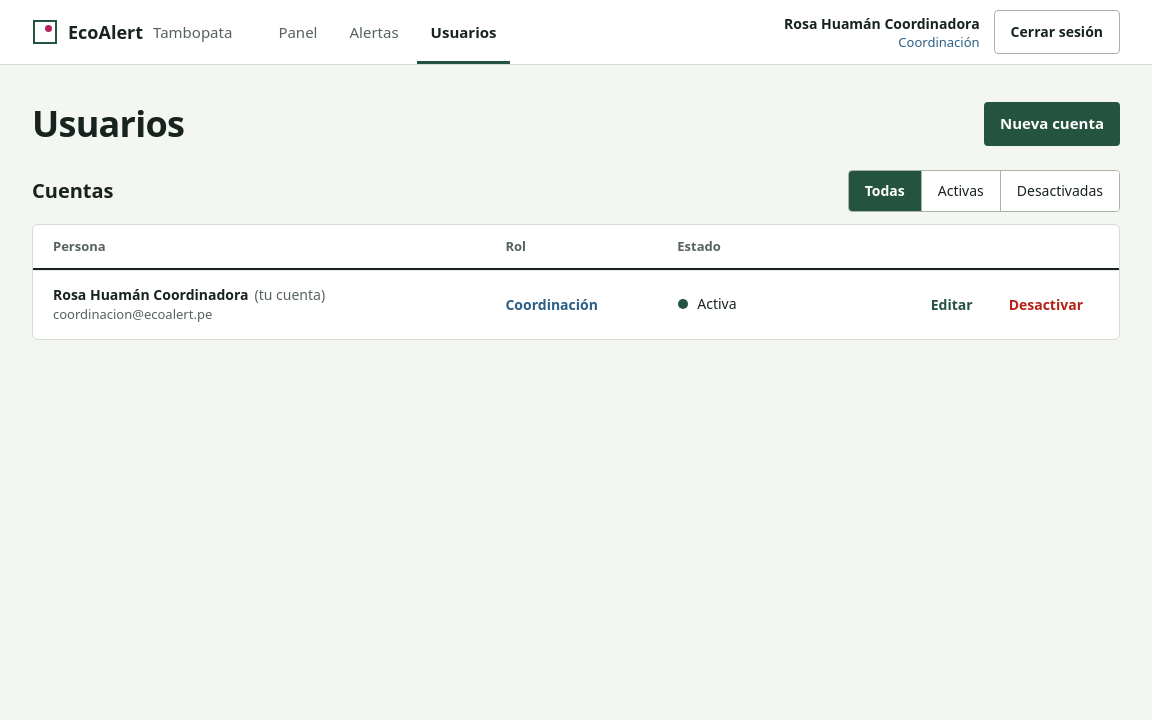
Scenario: UsuariosPage (RF-02) › crea una cuenta con Idempotency-Key y muestra la confirmación (RF-02-AC-1)
Expected: the text "coordinacion@ecoalert.pe" is shown, x1=53 y1=305 x2=212 y2=323
Click the button "Nueva cuenta".
click(1052, 124)  # box x1=984 y1=102 x2=1120 y2=146
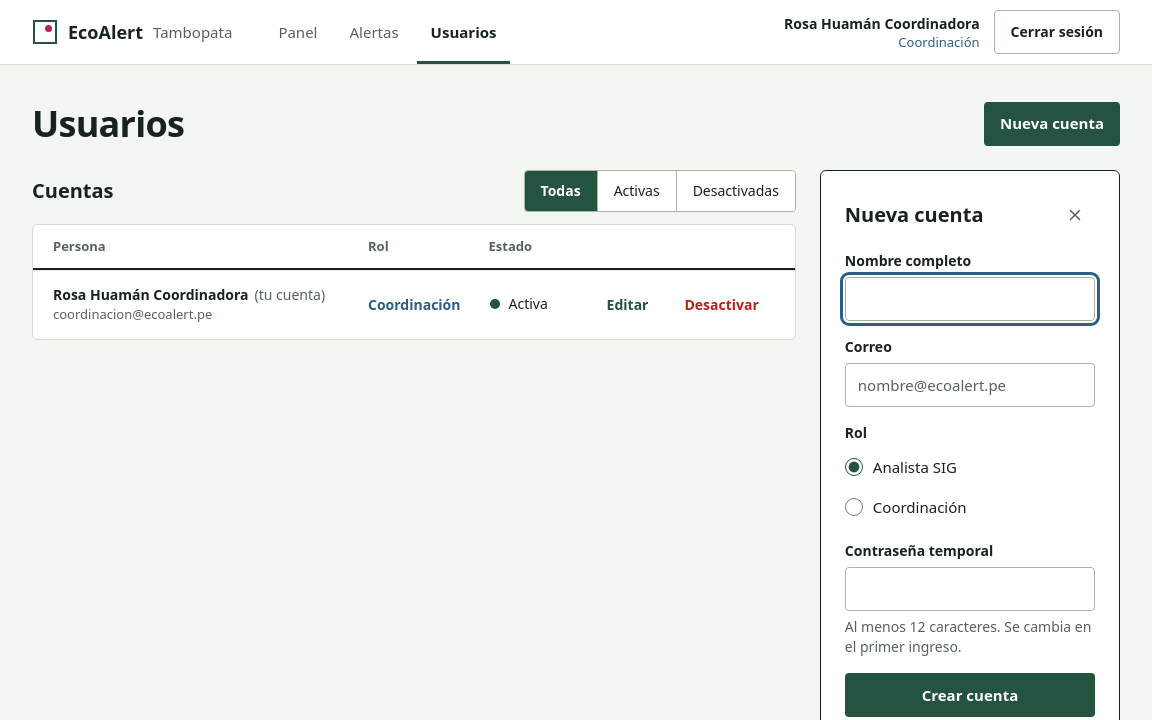
Type "Luis Condori" into the field labelled "Nombre completo".
click(970, 299); type("Luis Condori")  # box x1=845 y1=277 x2=1095 y2=321
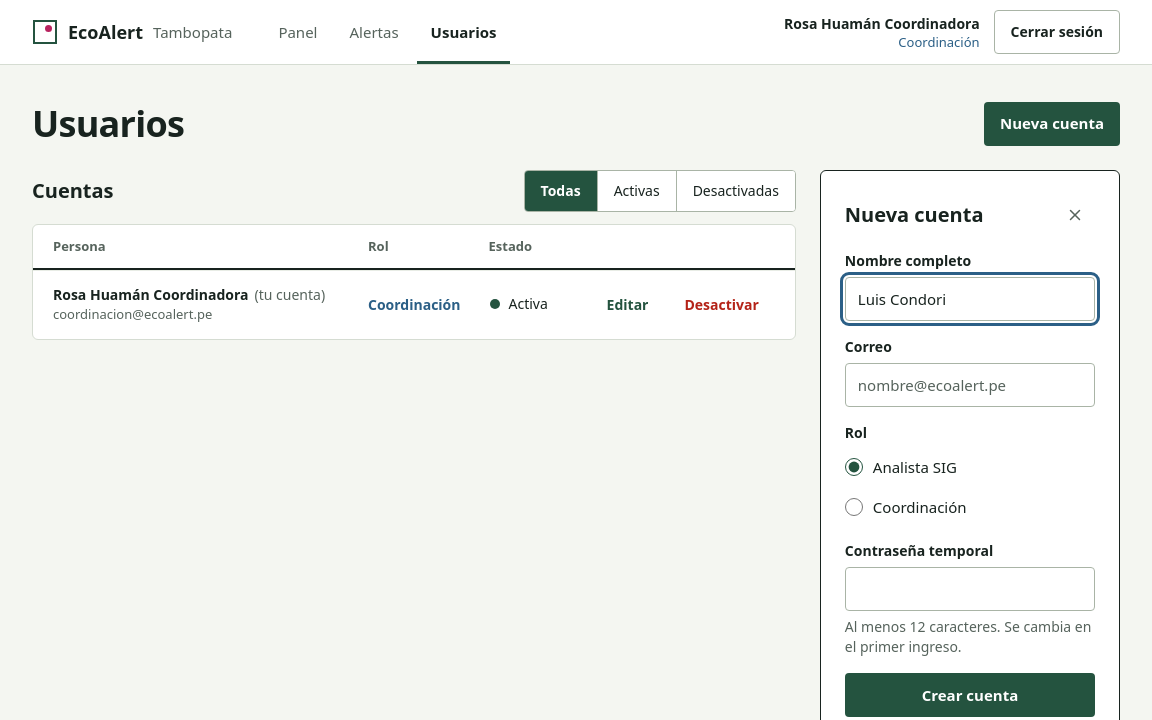
Type "luis.condori@ecoalert.pe" into the field labelled "Correo".
click(970, 385); type("luis.condori@ecoalert.pe")  # box x1=845 y1=363 x2=1095 y2=407
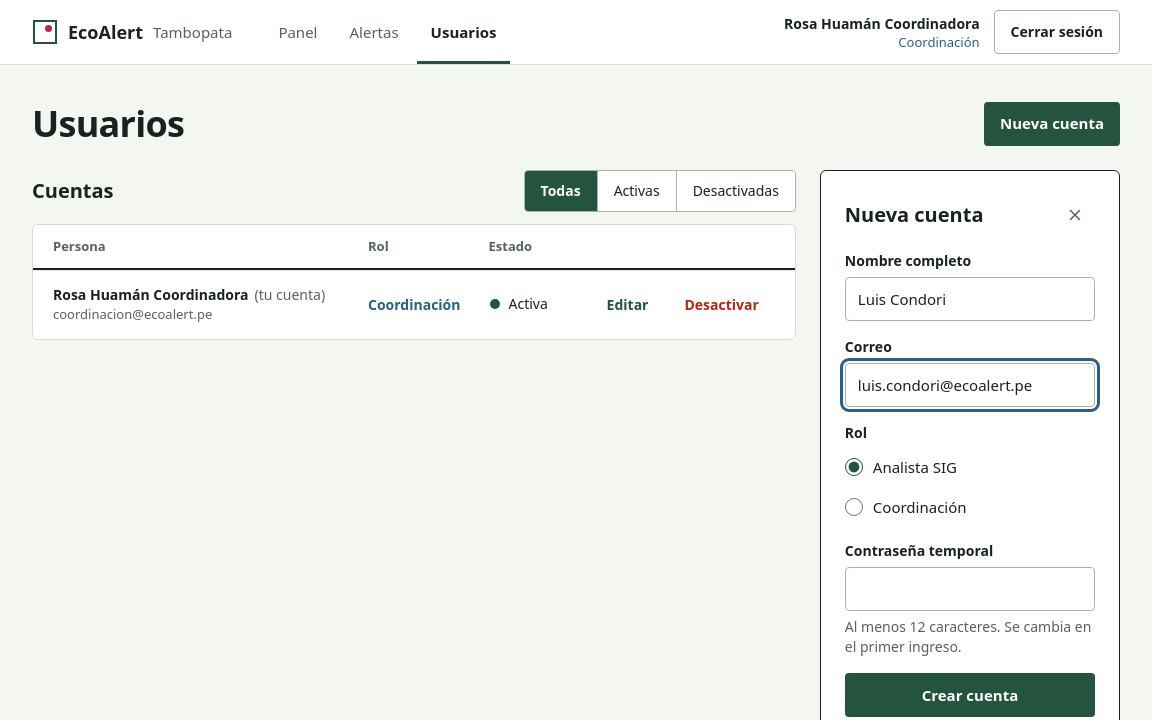
Type "Temporal-2026!" into the password field labelled "Contraseña temporal".
click(970, 589); type("Temporal-2026!")  # box x1=845 y1=567 x2=1095 y2=611
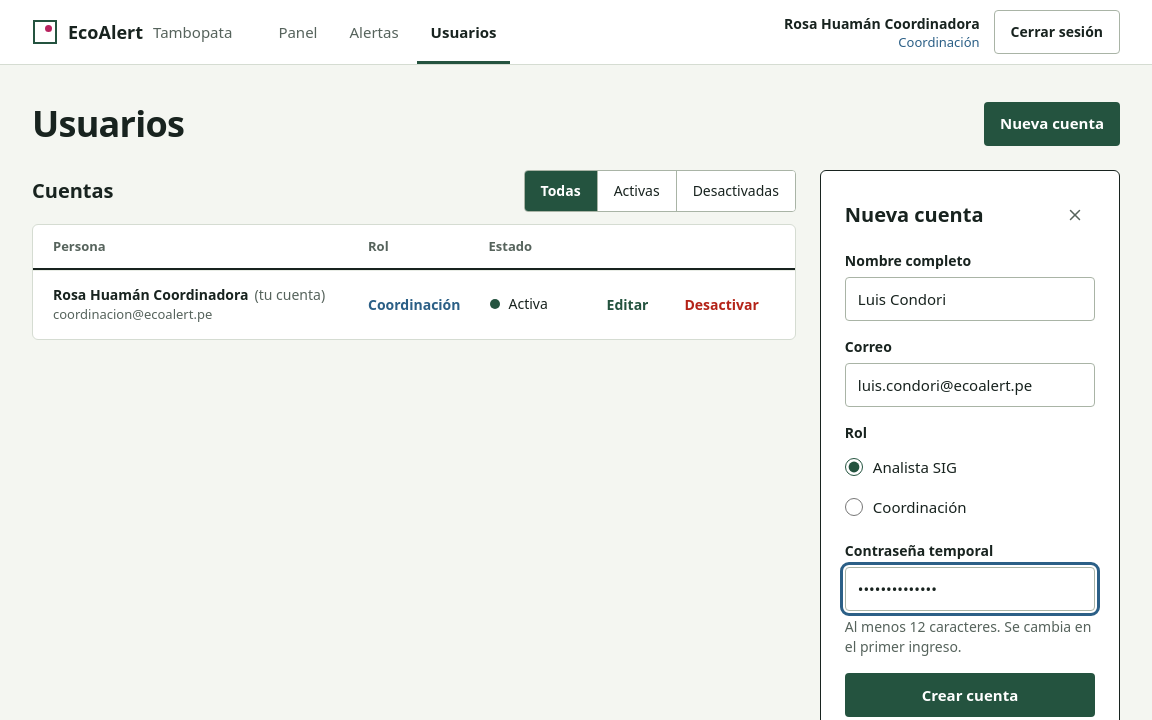
Click the button "Crear cuenta".
click(970, 695)  # box x1=845 y1=673 x2=1095 y2=717
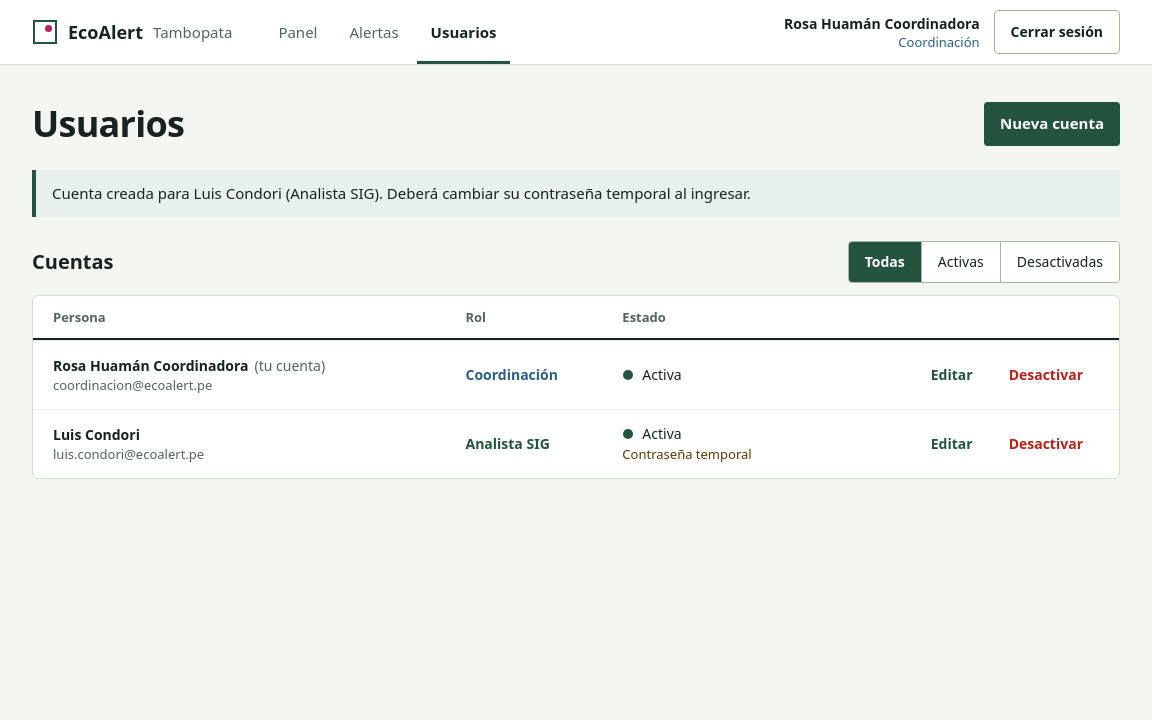
Expected: the text "Cuenta creada para Luis Condori" is shown, x1=52 y1=183 x2=751 y2=203
Expected: the label labelled "Nombre completo" is gone
Expected: the text "luis.condori@ecoalert.pe" is shown, x1=53 y1=445 x2=204 y2=463
